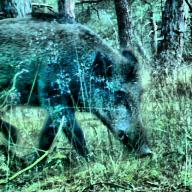boar: (4, 21, 154, 161)
